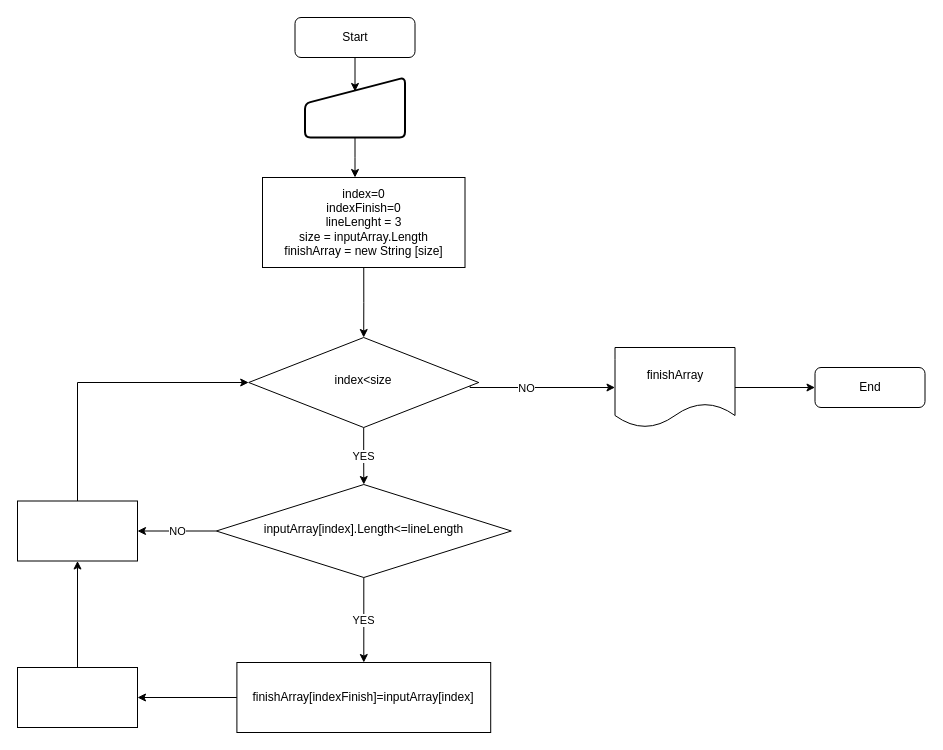
The diagram is 943 pixels wide and 750 high, and some of its shapes have lost their labels. Each missing label, with the box of its shape:
index++: (16, 500, 138, 561)
indexFinish++: (16, 666, 138, 728)
inputArray: (304, 76, 406, 138)
